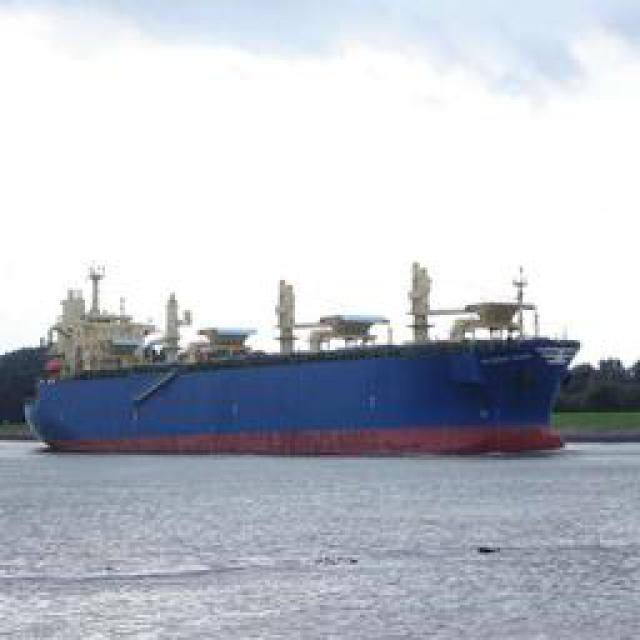Ship: (29, 264, 584, 457)
